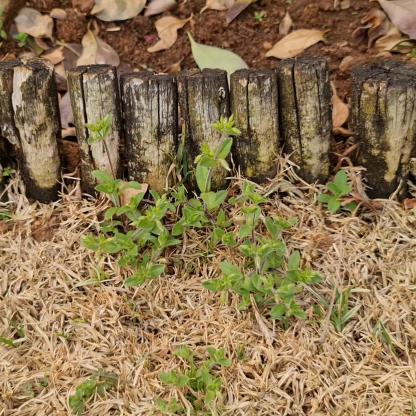Weeds: (83, 113, 323, 323), (157, 344, 230, 415), (67, 369, 116, 414), (319, 167, 360, 220)
